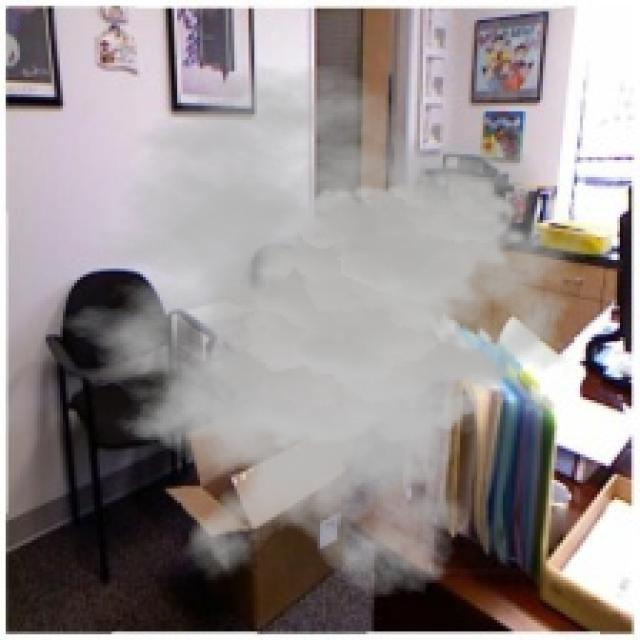smoke: (34, 63, 589, 600)
